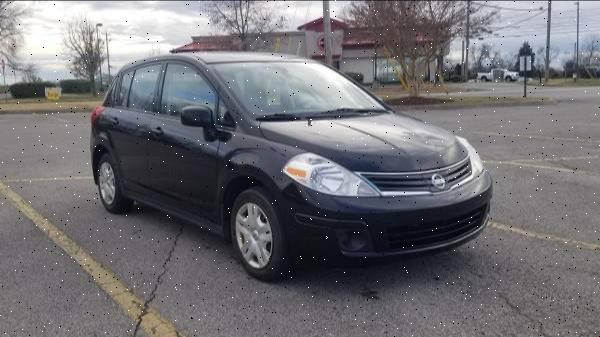Front_Bumper: (275, 168, 497, 272)
Front_Fender: (221, 112, 308, 191)
Front_Right_Door: (150, 110, 224, 233)
Front_Right_Window: (153, 61, 231, 126)
Front_Windshield: (212, 61, 392, 121)
Grille: (358, 155, 473, 193)
Hood: (262, 115, 469, 173)
Left_Headlight: (457, 136, 484, 173)
Rear_Fender: (91, 77, 116, 157)
Rear_Right_Door: (110, 106, 152, 205)
Rear_Right_Window: (111, 62, 162, 113)
Right_Headlight: (281, 149, 381, 196)
Right_Taillight: (91, 104, 106, 127)
Roof: (119, 49, 316, 122)
Wheel: (229, 189, 284, 278), (94, 155, 117, 208)
